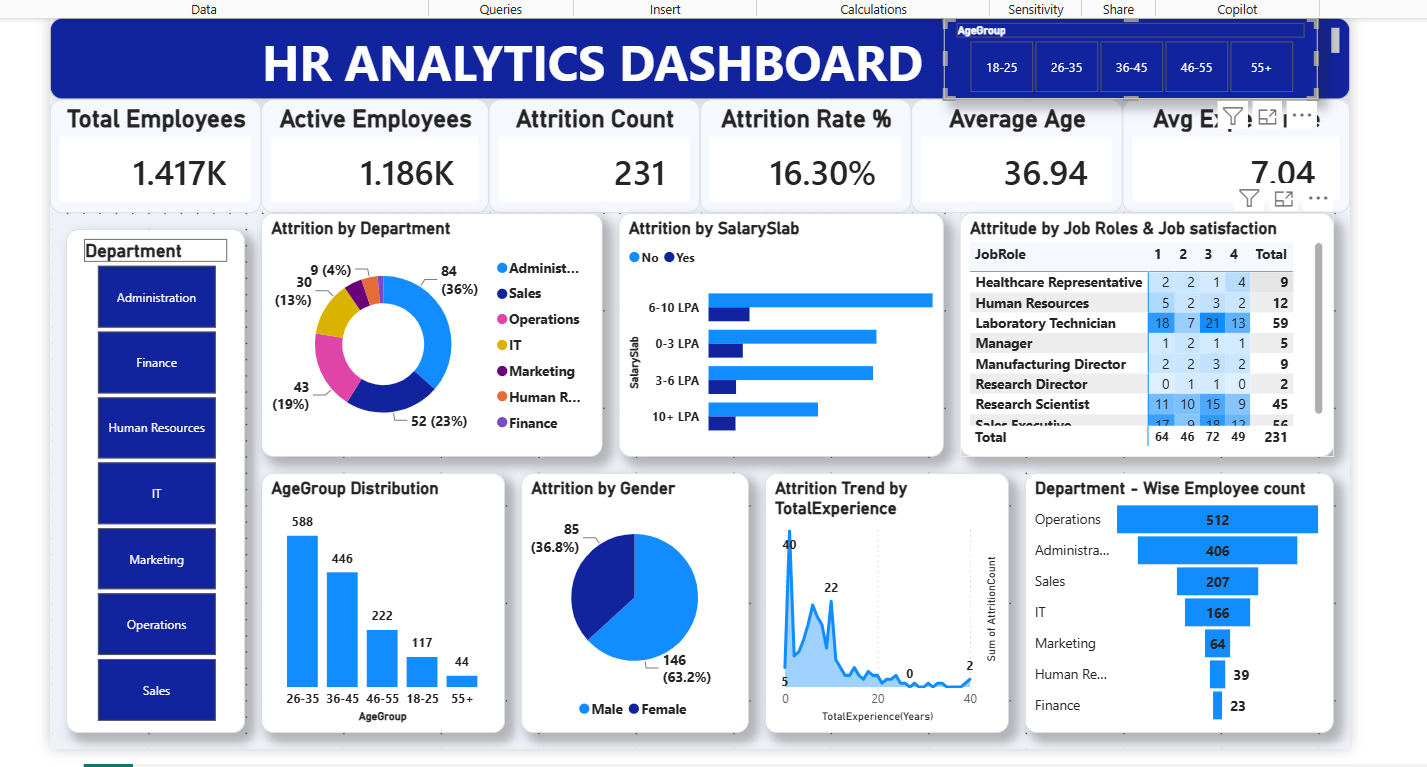

This screenshot's page, from the dashboard's own definition file:
{"tool":"powerbi","page":{"name":"Page 1","canvas":[1280,720],"ordinal":0},"visuals":[{"type":"textbox","box":[0,0,1280,80],"z":0},{"type":"cardVisual","title":"Total Employees","fields":{"Data":["CountNonNull(HR_Analytics-4.EmpID)"]},"box":[0,80,208,112],"z":1000},{"type":"cardVisual","title":"Active Employees","fields":{"Data":["CountNonNull(HR_Analytics-4.EmployeeCount)"]},"box":[208,80,224,112],"z":2000},{"type":"cardVisual","title":"Attrition Count","fields":{"Data":["Sum(HR_Analytics-4.AttritionCount)"]},"box":[432,80,208,112],"z":3000},{"type":"cardVisual","title":"Attrition Rate %","fields":{"Data":["HR_Analytics-4.Attrition Rate %"]},"box":[640,80,208,112],"z":4000},{"type":"cardVisual","title":"Average Age","fields":{"Data":["Avg(HR_Analytics-4.Age)"]},"box":[848,80,208,112],"z":5000},{"type":"cardVisual","title":"Avg Experience","fields":{"Data":["Avg(HR_Analytics-4.YearsatCompany)"]},"box":[1056,80,224,112],"z":6000},{"type":"donutChart","title":"Attrition by Department","fields":{"Category":["HR_Analytics-4.Department"],"Y":["Sum(HR_Analytics-4.AttritionCount)"]},"box":[208,192,336,240],"z":7000},{"type":"clusteredBarChart","title":"Attrition by SalarySlab","fields":{"Category":["HR_Analytics-4.SalarySlab"],"Y":["CountNonNull(HR_Analytics-4.EmpID)"],"Series":["HR_Analytics-4.Attrition"]},"box":[560,192,320,240],"z":8000},{"type":"pivotTable","title":"Attritude by Job Roles & Job satisfaction","fields":{"Rows":["HR_Analytics-4.JobRole"],"Values":["Sum(HR_Analytics-4.AttritionCount)"],"Columns":["HR_Analytics-4.JobSatisfaction"]},"box":[896,192,368,240],"z":9000},{"type":"columnChart","title":"AgeGroup Distribution","fields":{"Category":["HR_Analytics-4.AgeGroup"],"Y":["Sum(HR_Analytics-4.EmployeeCount)"]},"box":[208,448,240,256],"z":10000},{"type":"pieChart","title":" Attrition by Gender","fields":{"Category":["HR_Analytics-4.Gender"],"Y":["Sum(HR_Analytics-4.AttritionCount)"]},"box":[464,448,224,256],"z":11000},{"type":"areaChart","title":"Attrition Trend by TotalExperience","fields":{"Category":["HR_Analytics-4.TotalExperience(Years)"],"Y2":["Sum(HR_Analytics-4.AttritionCount)"]},"box":[704,448,240,256],"z":12000},{"type":"funnel","title":"Department - Wise Employee count","fields":{"Category":["HR_Analytics-4.Department"],"Y":["CountNonNull(HR_Analytics-4.EmpID)"]},"box":[960,448,304,256],"z":13000},{"type":"slicer","fields":{"Values":["HR_Analytics-4.Department"]},"box":[16,208,176,496],"z":14000},{"type":"slicer","fields":{"Values":["HR_Analytics-4.AgeGroup"]},"box":[880,0,368,80],"z":14001}]}

Visuals, with their boxes on the page's 1280x720 design canvas (x1, y1, x2, y2). These are canvas units, not pixel positions in the 1427x767 screenshot, which may show the page scaled, cropped or inside an application window:
textbox: rect(0, 0, 1280, 80)
"Total Employees" cardVisual: rect(0, 80, 208, 192)
"Active Employees" cardVisual: rect(208, 80, 432, 192)
"Attrition Count" cardVisual: rect(432, 80, 640, 192)
"Attrition Rate %" cardVisual: rect(640, 80, 848, 192)
"Average Age" cardVisual: rect(848, 80, 1056, 192)
"Avg Experience" cardVisual: rect(1056, 80, 1280, 192)
"Attrition by Department" donutChart: rect(208, 192, 544, 432)
"Attrition by SalarySlab" clusteredBarChart: rect(560, 192, 880, 432)
"Attritude by Job Roles & Job satisfaction" pivotTable: rect(896, 192, 1264, 432)
"AgeGroup Distribution" columnChart: rect(208, 448, 448, 704)
" Attrition by Gender" pieChart: rect(464, 448, 688, 704)
"Attrition Trend by TotalExperience" areaChart: rect(704, 448, 944, 704)
"Department - Wise Employee count" funnel: rect(960, 448, 1264, 704)
slicer - HR_Analytics-4.Department: rect(16, 208, 192, 704)
slicer - HR_Analytics-4.AgeGroup: rect(880, 0, 1248, 80)
